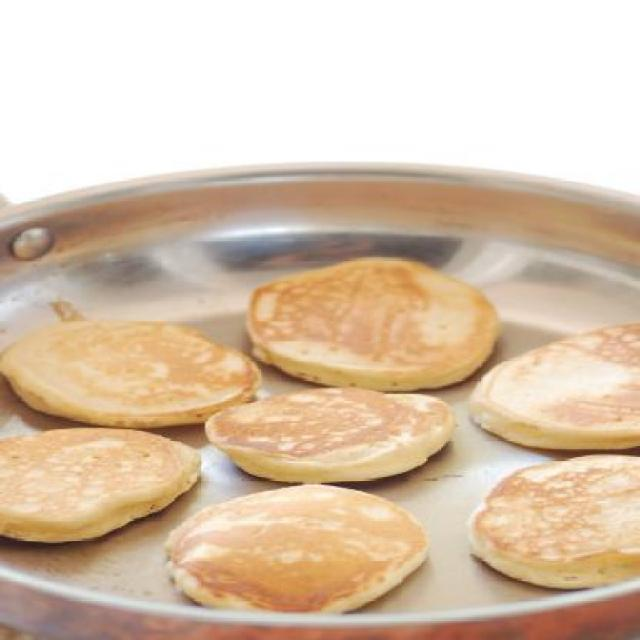Pancake: (246, 256, 500, 392), (0, 302, 258, 423), (204, 390, 456, 484), (467, 452, 640, 584), (0, 427, 197, 542), (468, 326, 640, 452)
